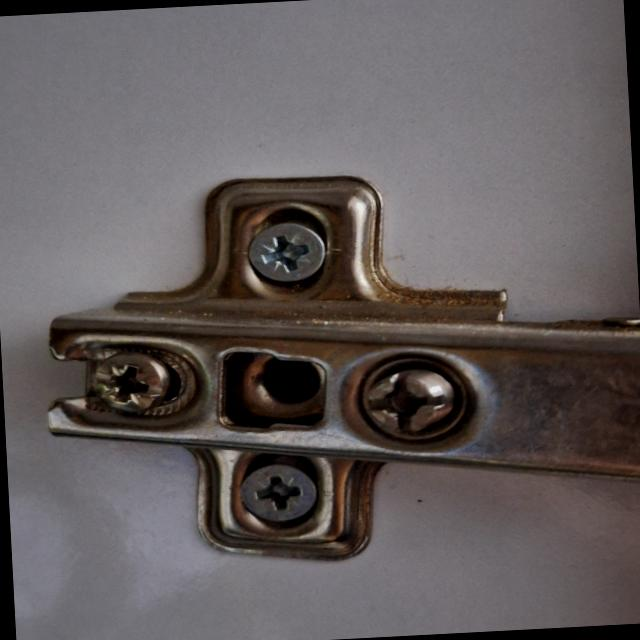Phillips: (353, 360, 459, 450)
Pozidriv: (86, 350, 178, 426), (233, 460, 320, 532), (252, 222, 324, 290)
